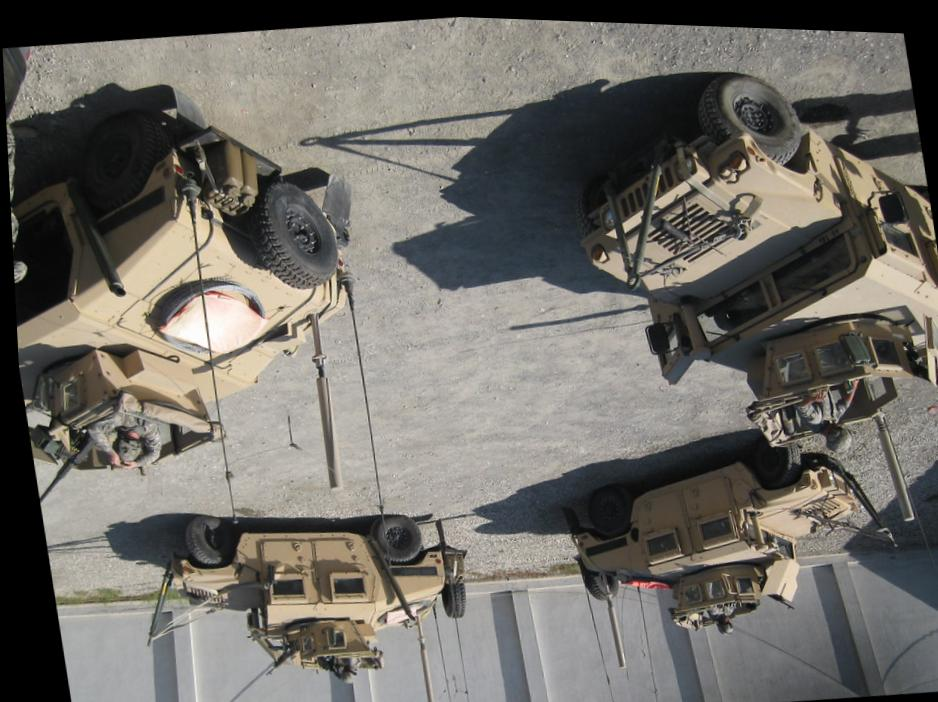armored_car: (3, 57, 411, 562), (550, 43, 938, 480), (548, 418, 905, 647), (135, 485, 486, 695)
